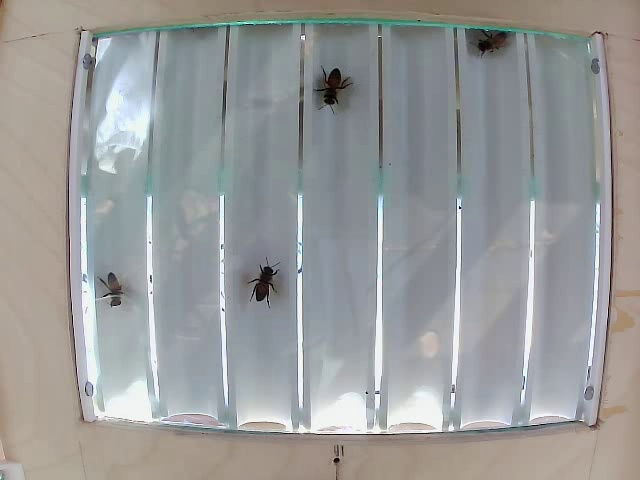bee: (315, 62, 357, 117), (245, 258, 281, 310), (99, 268, 134, 315), (469, 24, 511, 59)
